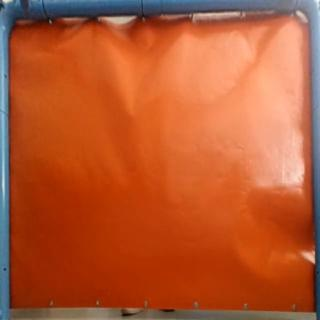Hit-hRxx: (126, 108, 135, 120)
